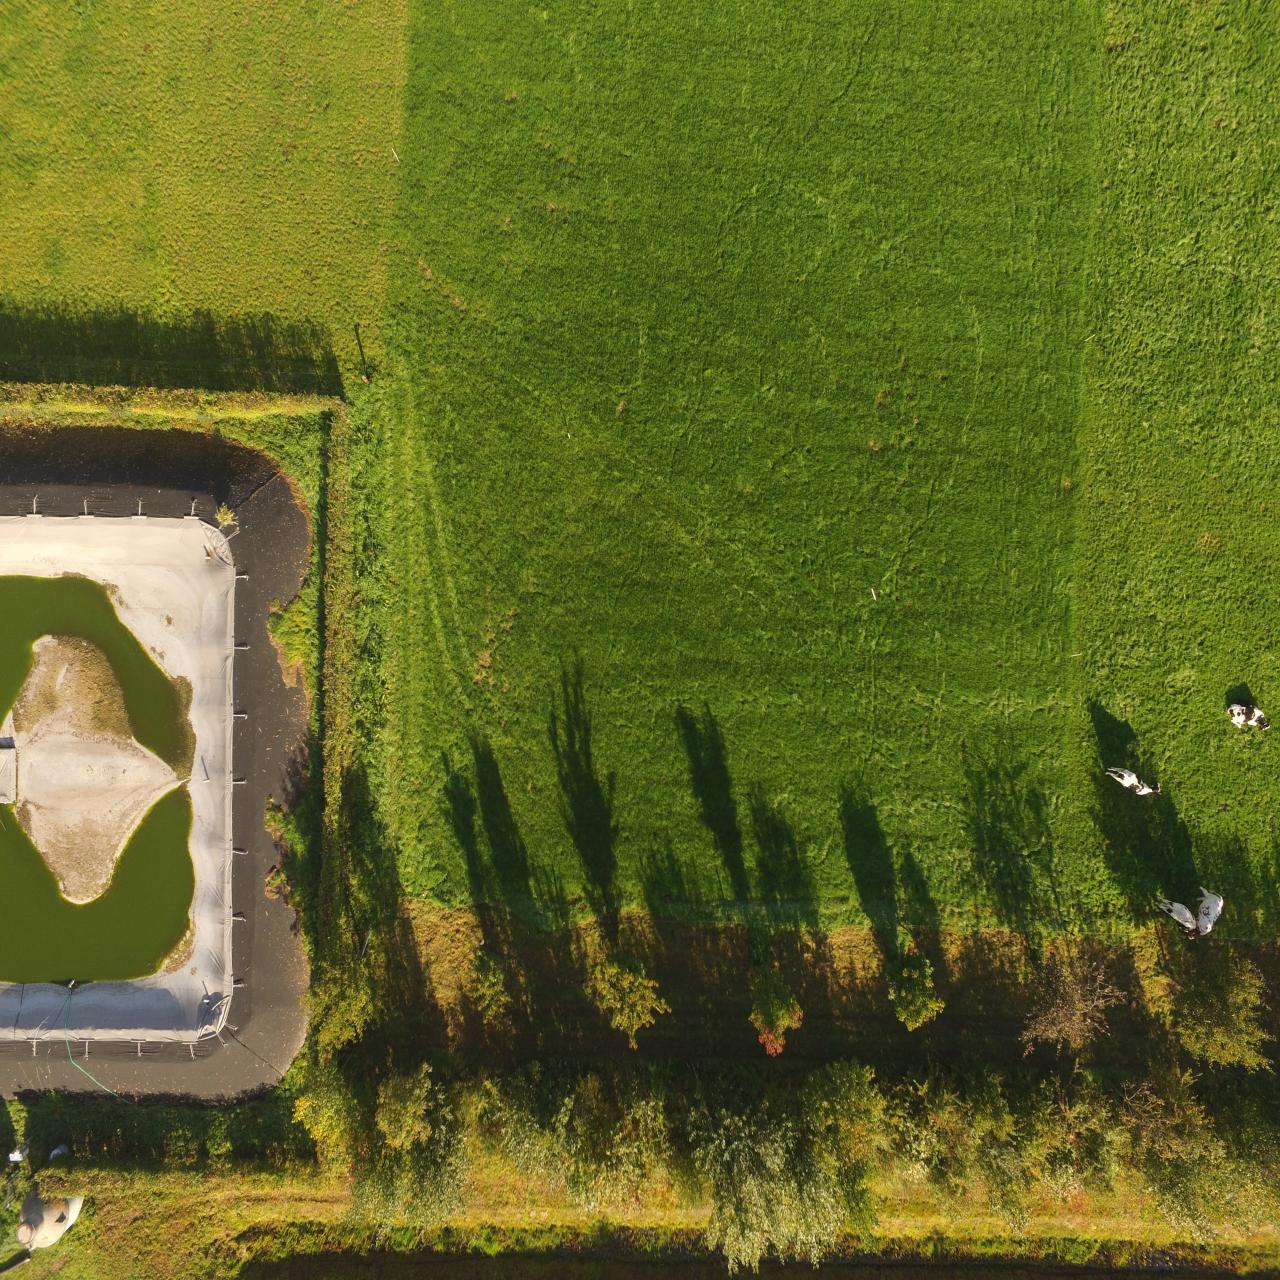cow: (1194, 876, 1241, 959), (1142, 891, 1203, 949), (1223, 689, 1280, 745), (1092, 755, 1171, 795)
